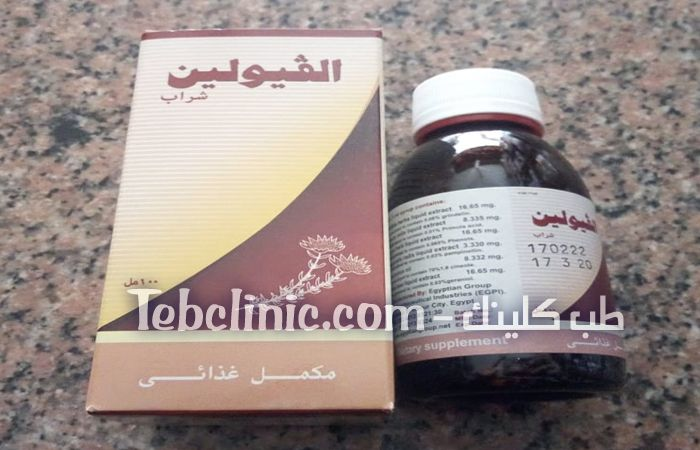Medicine: (86, 25, 400, 421), (389, 60, 639, 398)
